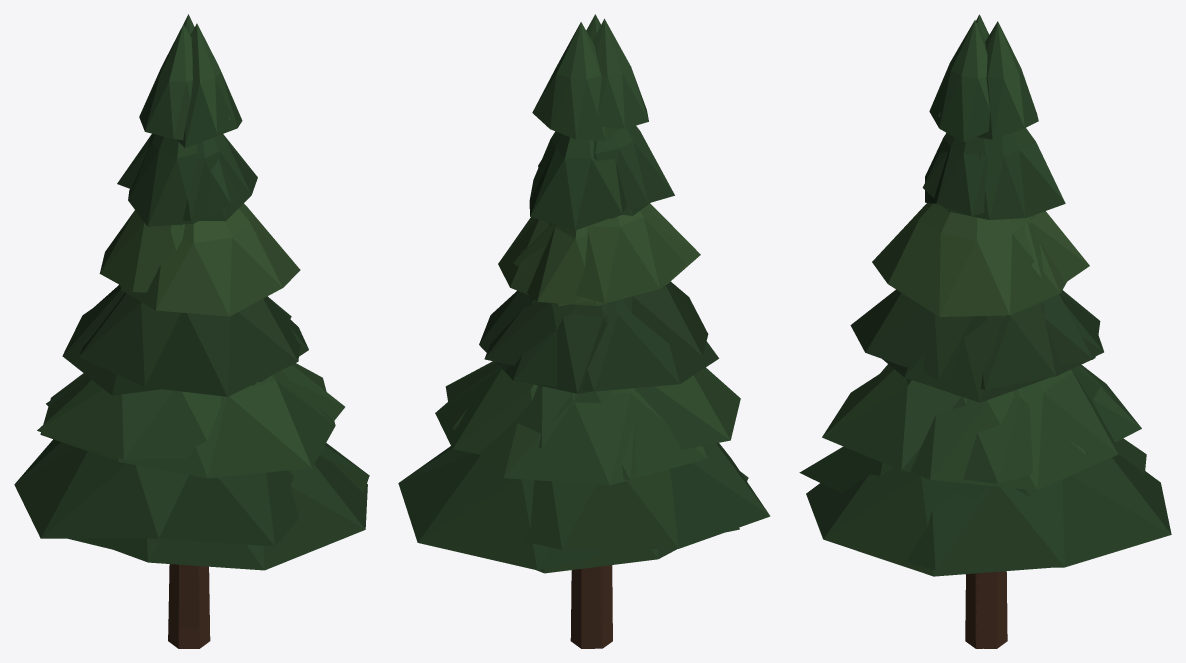
The model's file is pine.glb.
3 renders of one model, left to right at view 1: azimuth 30°, elevation 25°; view 2: azimuth 150°, elevation 25°; view 3: azimuth 270°, elevation 25°, orthographic.
Parts seen in each view (by area): view 1: pine_v1, pine_v0, pine_v2; view 2: pine_v1, pine_v2, pine_v0; view 3: pine_v0, pine_v2, pine_v1.
Part boxes in pixels (x1,y1,x2,y2): pine_v1: (14,24,301,648); pine_v0: (40,23,367,648); pine_v2: (46,14,369,648); pine_v1: (484,18,770,646); pine_v2: (398,22,739,648); pine_v0: (445,14,748,648); pine_v0: (806,20,1141,648); pine_v2: (906,21,1171,648); pine_v1: (799,14,1146,500).
Bounding box in the file's own units: 7.51 × 14.01 × 7.59.
